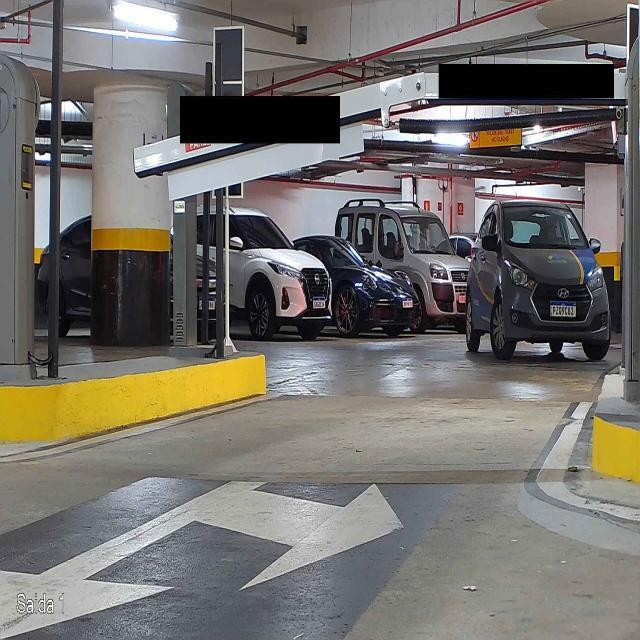mercosul_plate: (548, 299, 578, 319)
